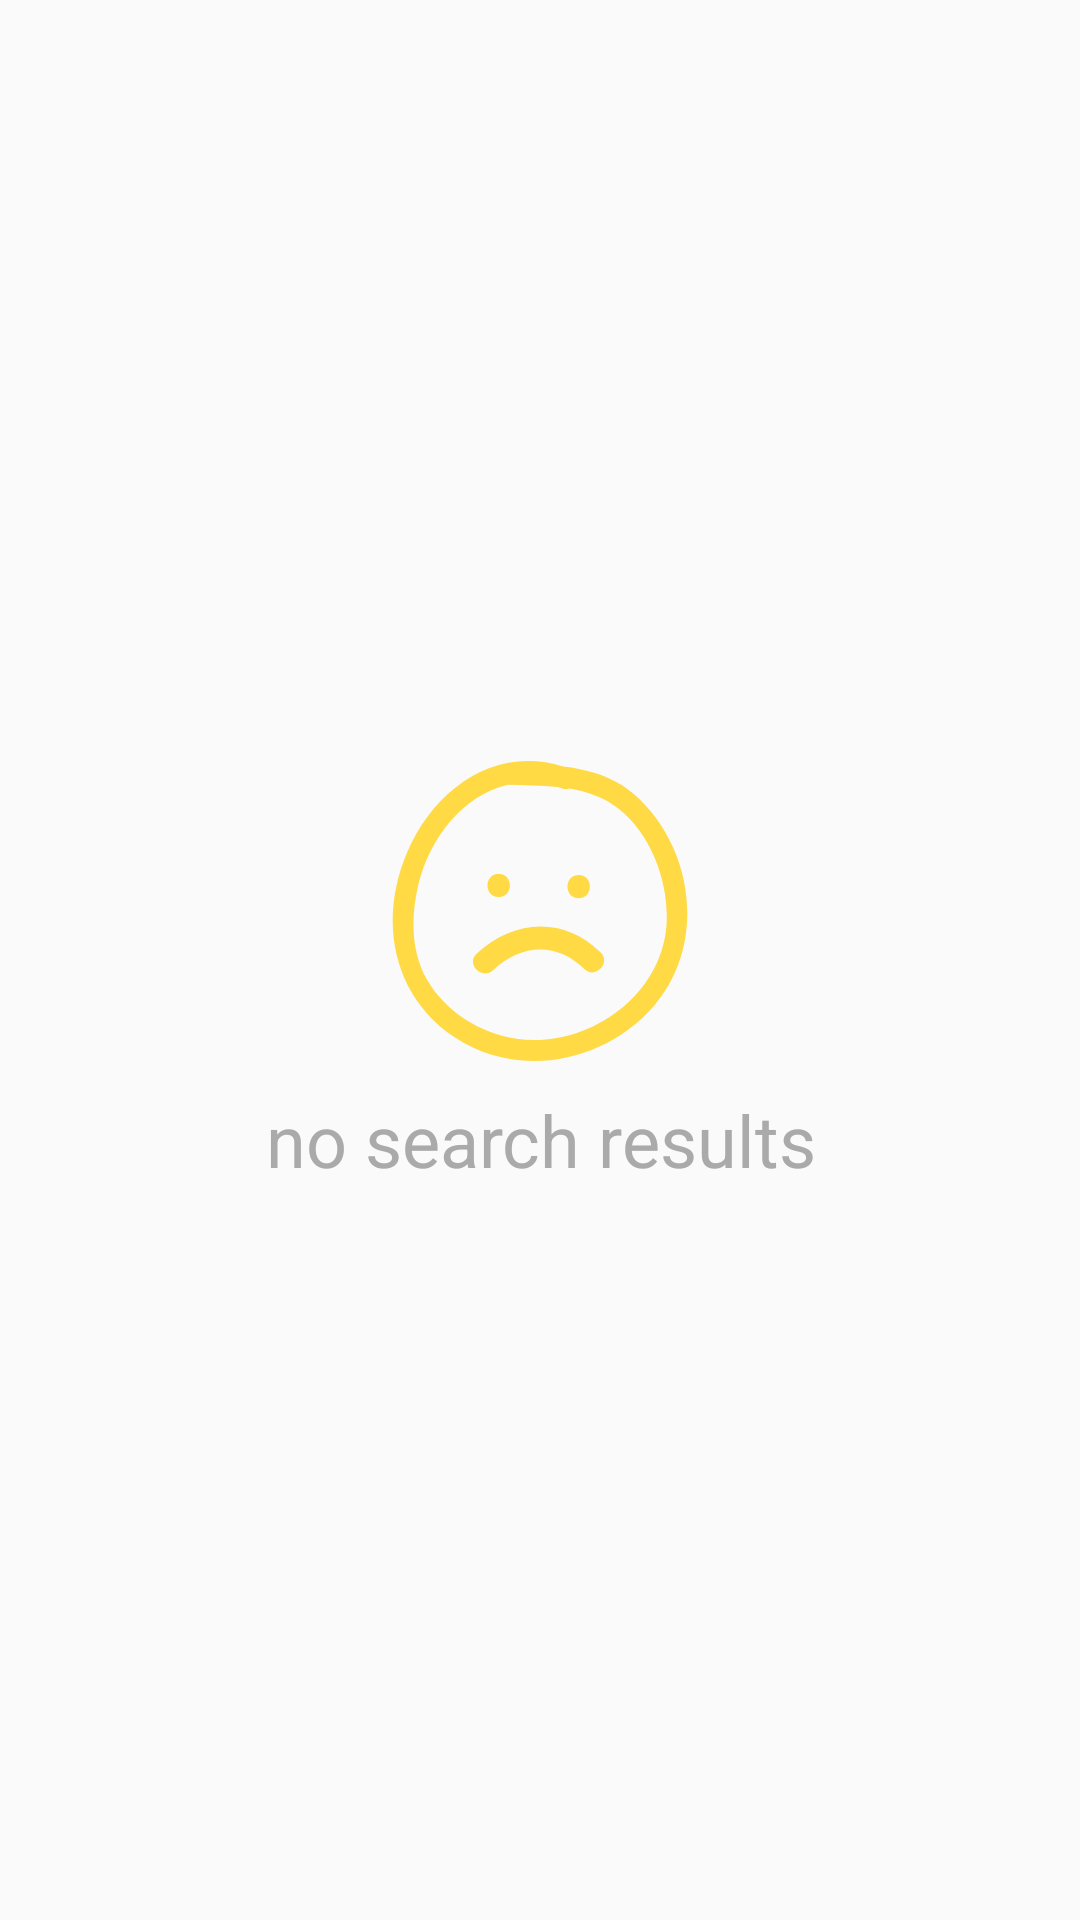

Where to tap for icons on this 1080px x 1920px app screen, as point (x, y):
sad face: point (540, 911)
